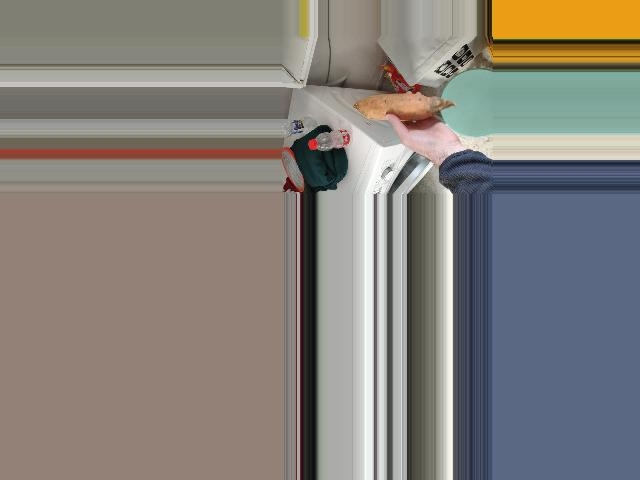sweet_potato: (356, 95, 443, 118)
